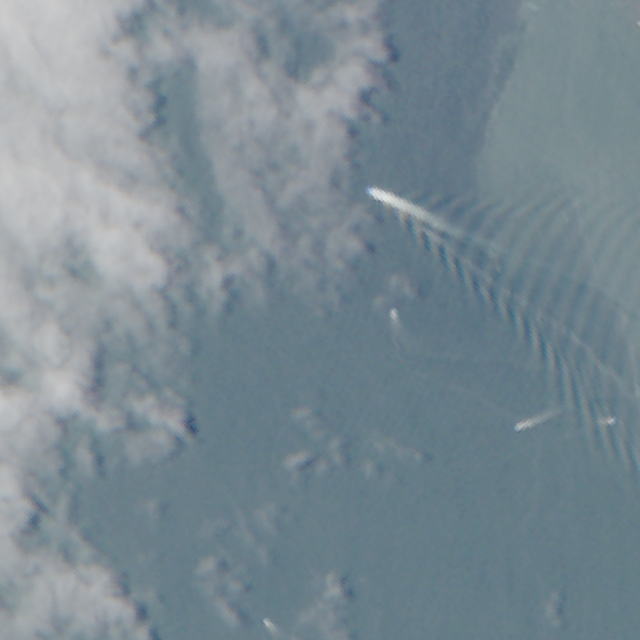wake: (310, 106, 608, 354)
